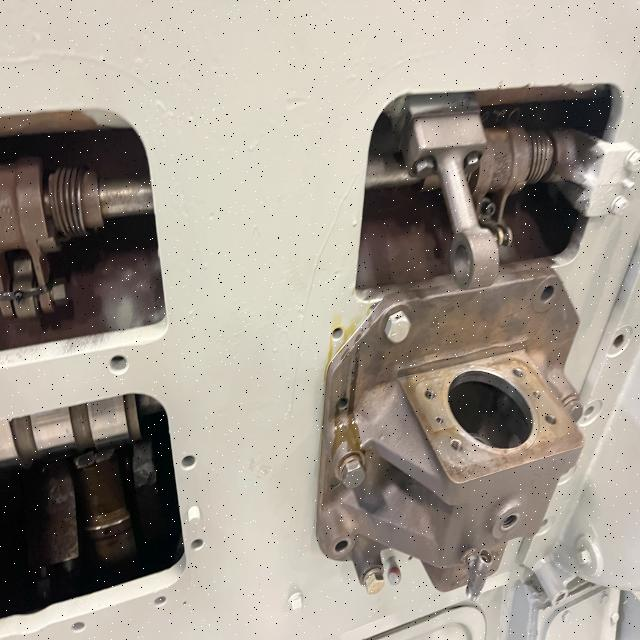Oil Leak: (315, 299, 381, 491)
